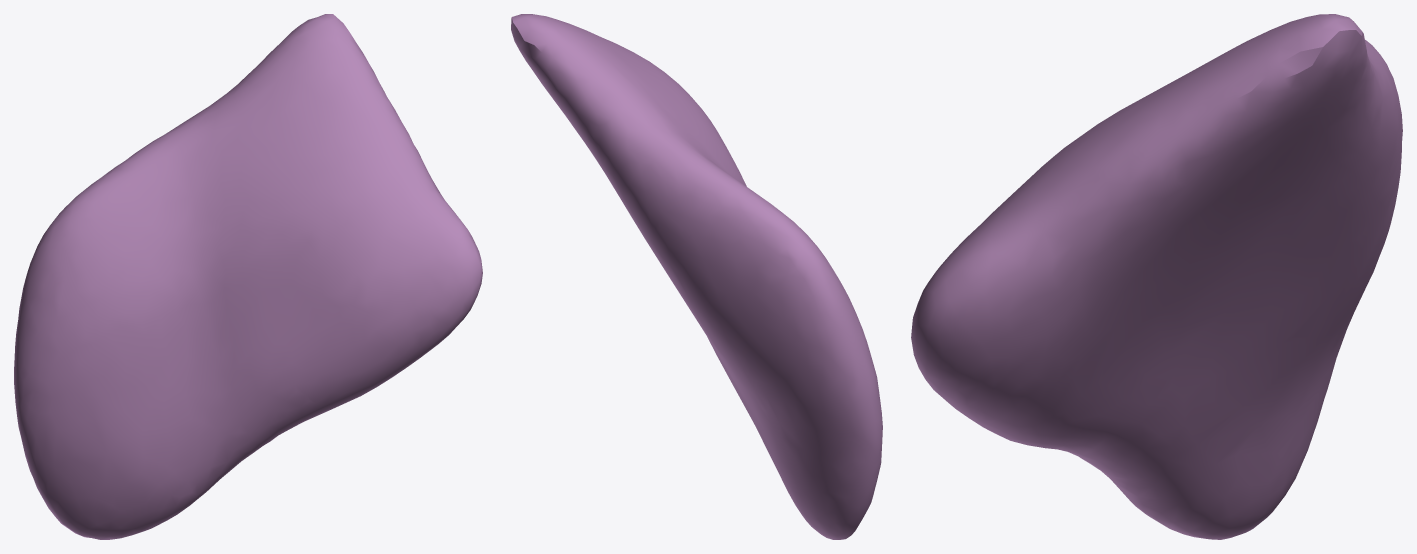
3 renders of one model, left to right at view 1: azimuth 30°, elevation 25°; view 2: azimuth 150°, elevation 25°; view 3: azimuth 270°, elevation 25°, orthographic. The views are drawn at different scales.
Parts seen in each view (by area): view 1: 右侧中央小叶翼; view 2: 右侧中央小叶翼; view 3: 右侧中央小叶翼.
Boxes of the visible parts, left/top/right/bottom form: 右侧中央小叶翼: left=14, top=14, right=482, bottom=539; 右侧中央小叶翼: left=511, top=14, right=882, bottom=539; 右侧中央小叶翼: left=911, top=14, right=1402, bottom=539.
Size of the model in its own units: 0.0256 by 0.0303 by 0.019.
